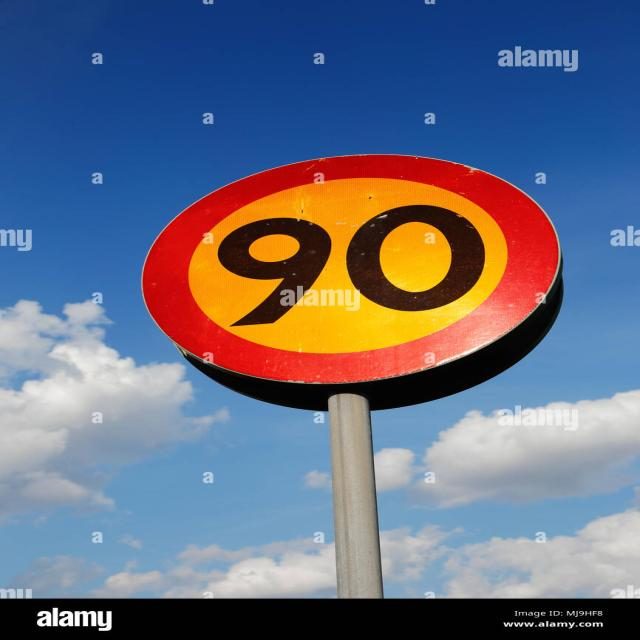SPEED_LIMIT_90: (134, 148, 572, 394)
